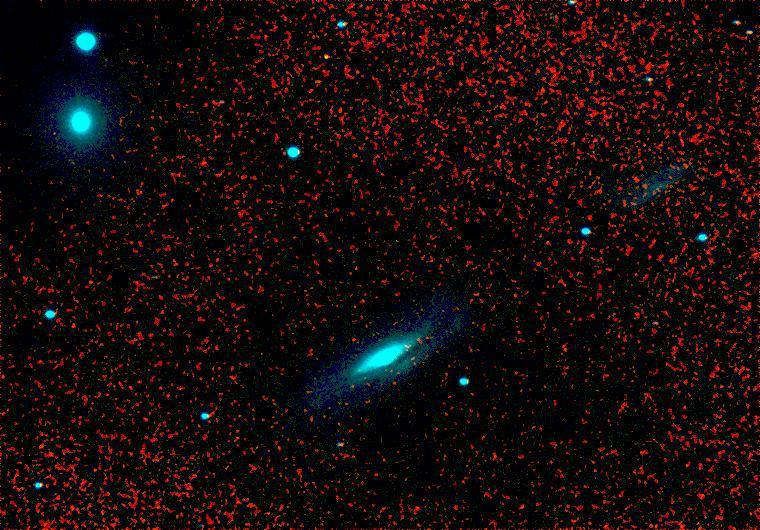star: (305, 37, 335, 67)
